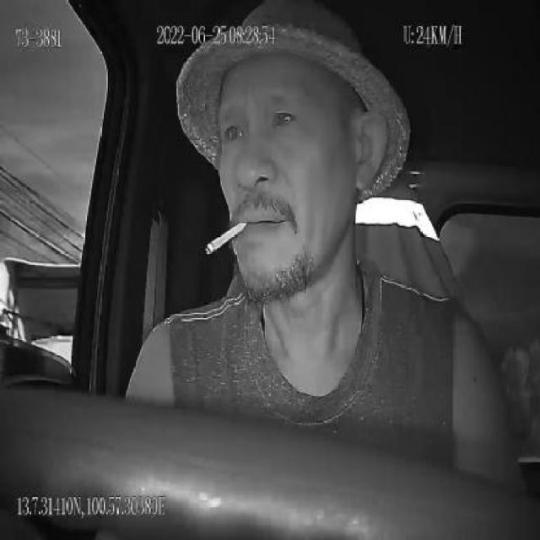smoking: (206, 219, 247, 256)
